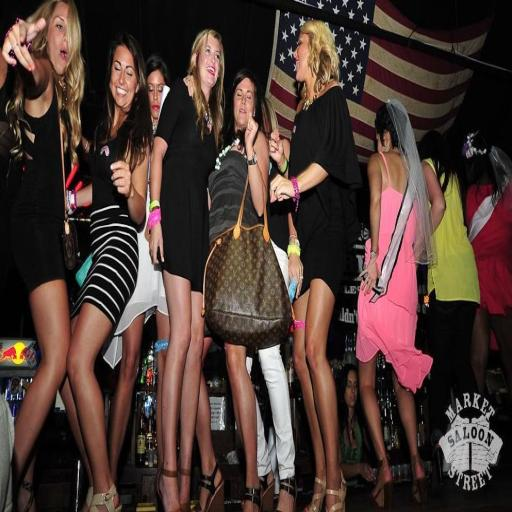person: (271, 21, 361, 511), (66, 34, 152, 511), (3, 0, 84, 503), (149, 29, 224, 510), (357, 101, 434, 508), (420, 131, 480, 446), (105, 193, 169, 482), (463, 132, 511, 397), (208, 70, 269, 244), (258, 346, 296, 511), (339, 365, 375, 486)
